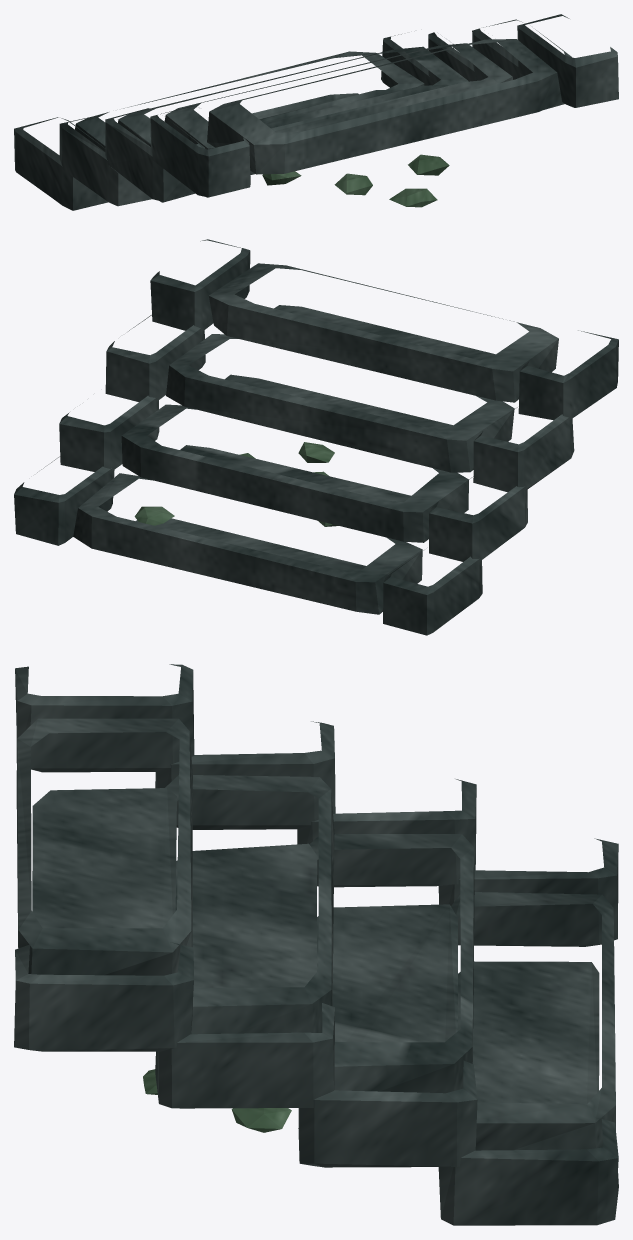
File: 0369_stairs_19.glb
3 views of the same model, one above another, from view 1: azimuth 30°, elevation 25°; view 2: azimuth 150°, elevation 25°; view 3: azimuth 270°, elevation 25° (orthographic). The views are drawn at different scales.
Parts seen in each view (by area): view 1: stone_dark, moss; view 2: stone_dark, moss; view 3: stone_dark, moss.
Part boxes in pixels (box(x1,y1,x2,y2)): stone_dark: box(14, 14, 618, 210); moss: box(262, 154, 449, 207); stone_dark: box(14, 239, 618, 635); moss: box(134, 442, 338, 526); stone_dark: box(14, 664, 618, 1225); moss: box(143, 1069, 291, 1132).
Size of the model in its own units: 2.35 by 0.8711 by 1.88.
Materials: 2 (2 with a texture image).
